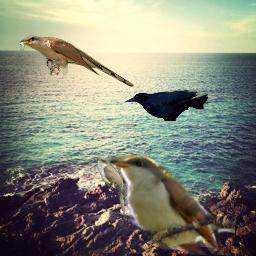Crow: (124, 90, 208, 121)
Cuckoo: (103, 146, 235, 255), (17, 35, 134, 87), (93, 155, 128, 221)
